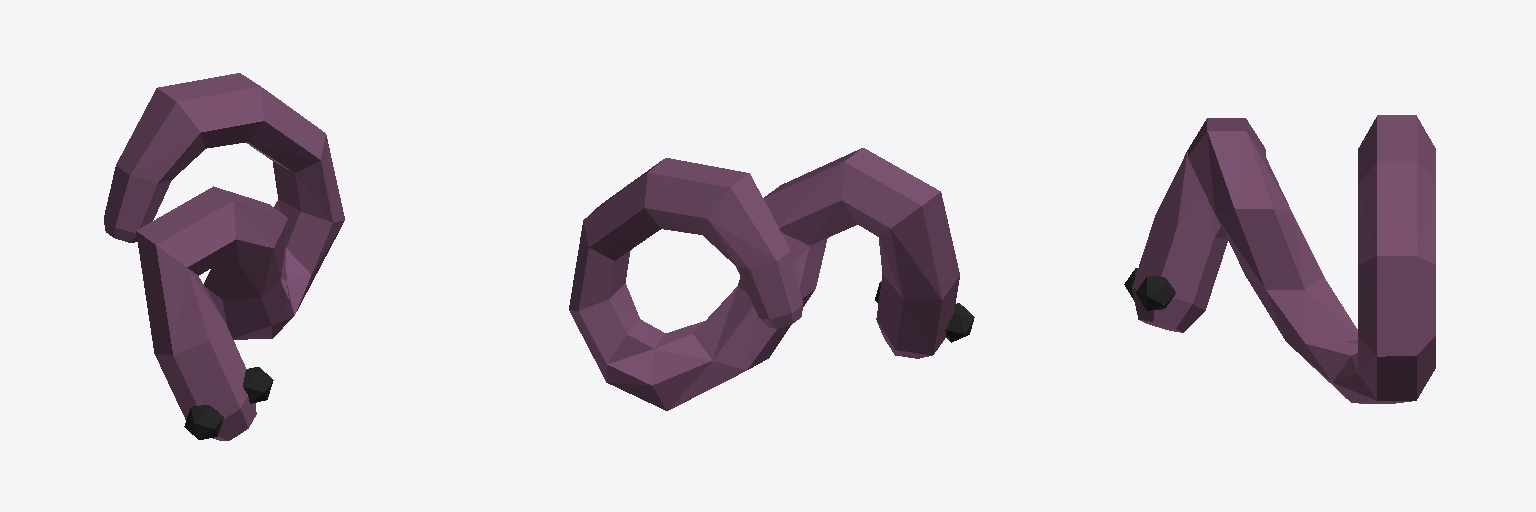
Rendered from worm.obj.
3 views of the same model, side by side, from view 1: azimuth 30°, elevation 25°; view 2: azimuth 150°, elevation 25°; view 3: azimuth 270°, elevation 25° (orthographic).
Parts seen in each view (by area): view 1: Object.1, Object.2, Object.3; view 2: Object.1, Object.2; view 3: Object.1, Object.3.
Part boxes in pixels (bbox=[...]): Object.1: bbox=[104, 73, 344, 440]; Object.2: bbox=[184, 405, 223, 439]; Object.3: bbox=[243, 367, 273, 403]; Object.1: bbox=[569, 148, 959, 410]; Object.2: bbox=[945, 303, 974, 342]; Object.1: bbox=[1132, 115, 1435, 403]; Object.3: bbox=[1136, 275, 1175, 310].
Size of the model in its own units: 495 by 431 by 484.